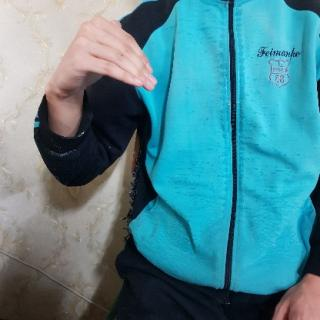HAA: (44, 13, 160, 100)
